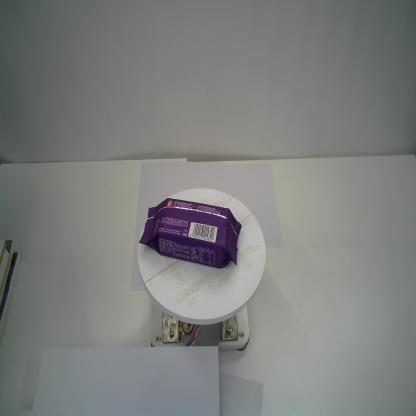Dessert: (138, 198, 242, 269)
